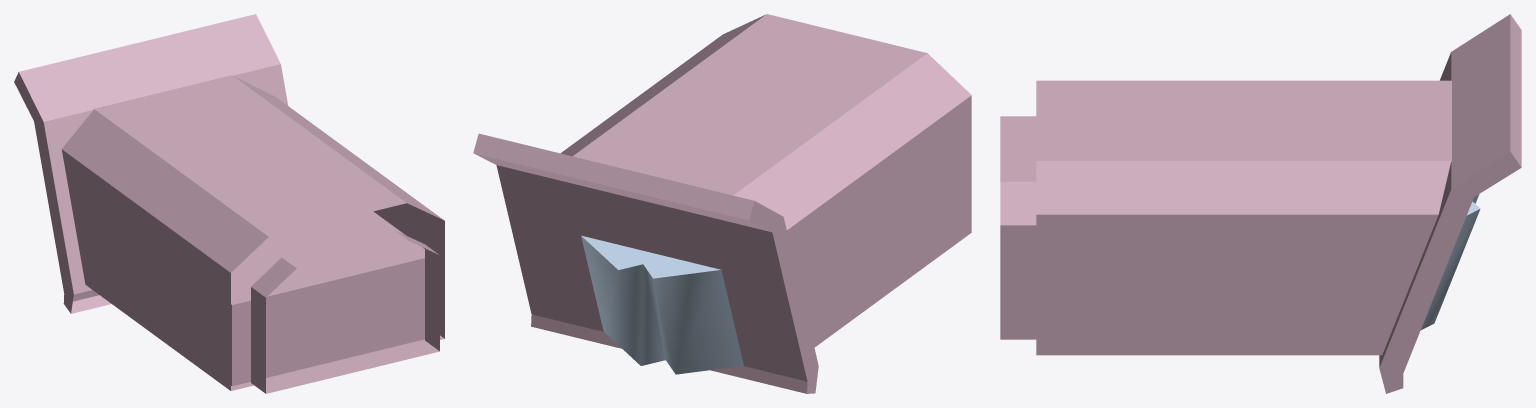
3 renders of one model, left to right at view 1: azimuth 30°, elevation 25°; view 2: azimuth 150°, elevation 25°; view 3: azimuth 270°, elevation 25°, orthographic. The views are drawn at different scales.
Visible parts, largest first — view 1: Object95; view 2: Object95; view 3: Object95.
Part boxes in pixels (x1,y1,x2,y2): Object95: [14, 14, 444, 393]; Object95: [473, 14, 971, 393]; Object95: [1000, 14, 1521, 393].
Size of the model in its own units: 9251 by 7595 by 14806.
